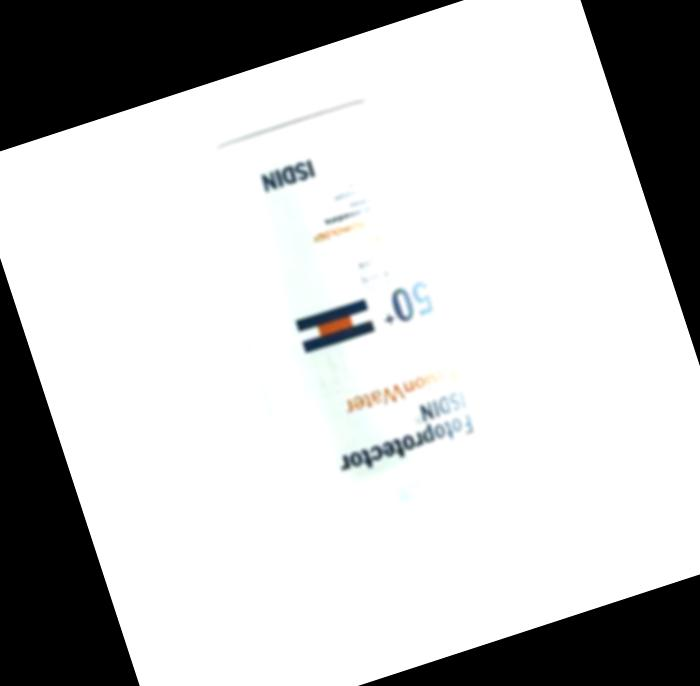cosmetic: (182, 86, 543, 620)
